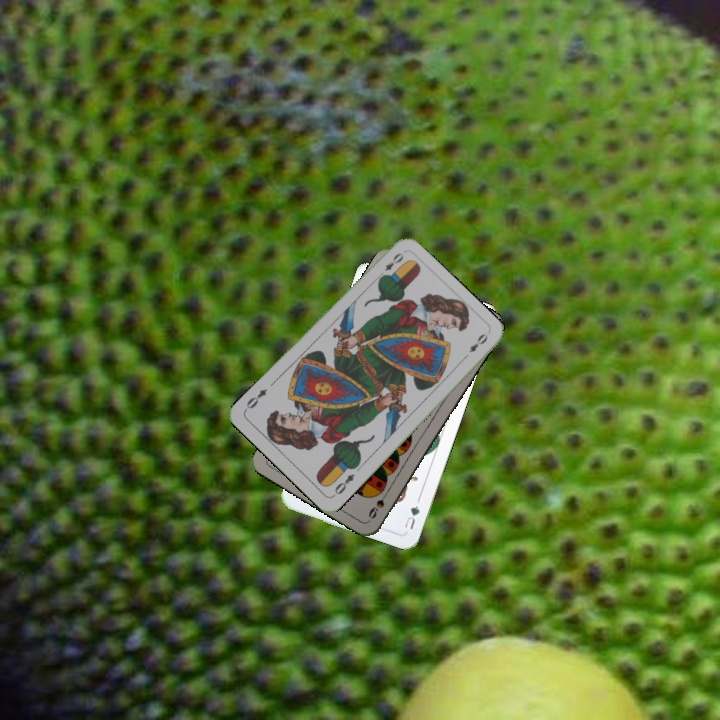EO: (374, 248, 407, 281), (329, 470, 357, 499)
GU: (400, 501, 422, 532)
S9: (364, 485, 392, 521)
